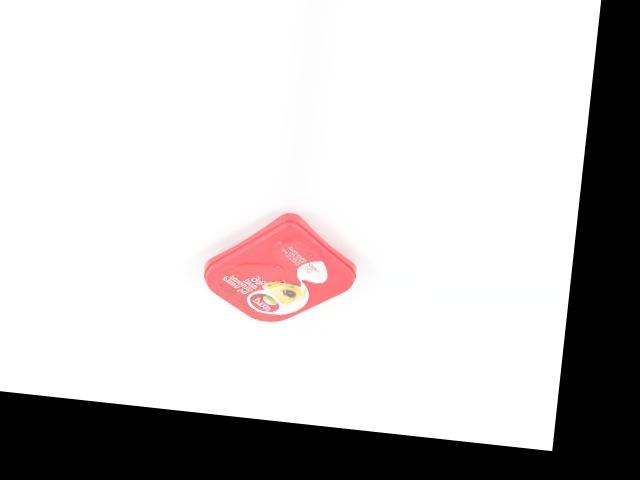cheese: (199, 203, 362, 331)
